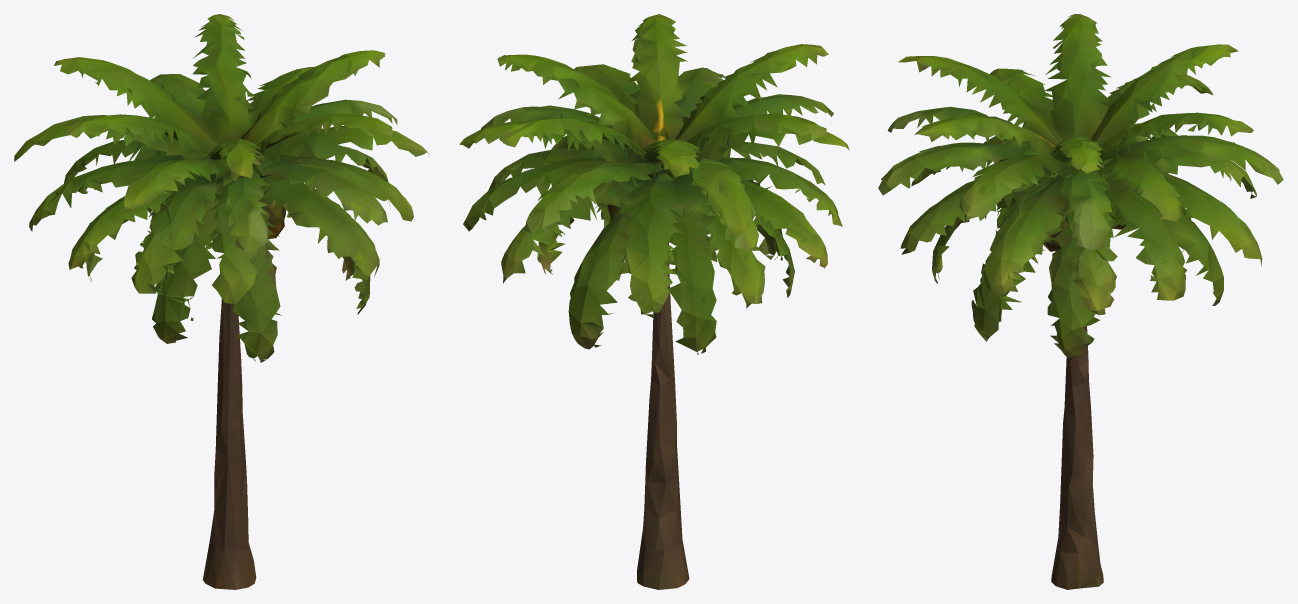
Rendered from lib_tp_dua.vc.glb.
The picture shows the model from 3 angles, left to right: view 1: azimuth 30°, elevation 25°; view 2: azimuth 150°, elevation 25°; view 3: azimuth 270°, elevation 25°; orthographic projection.
Visible parts, largest first — view 1: lib_tp_dua; view 2: lib_tp_dua; view 3: lib_tp_dua.
Boxes of the visible parts, bbox=[...] form: lib_tp_dua: bbox=[14, 14, 429, 589]; lib_tp_dua: bbox=[459, 14, 849, 589]; lib_tp_dua: bbox=[878, 14, 1283, 589].
Bounding box in the file's own units: 1.45 × 1.99 × 1.49.
